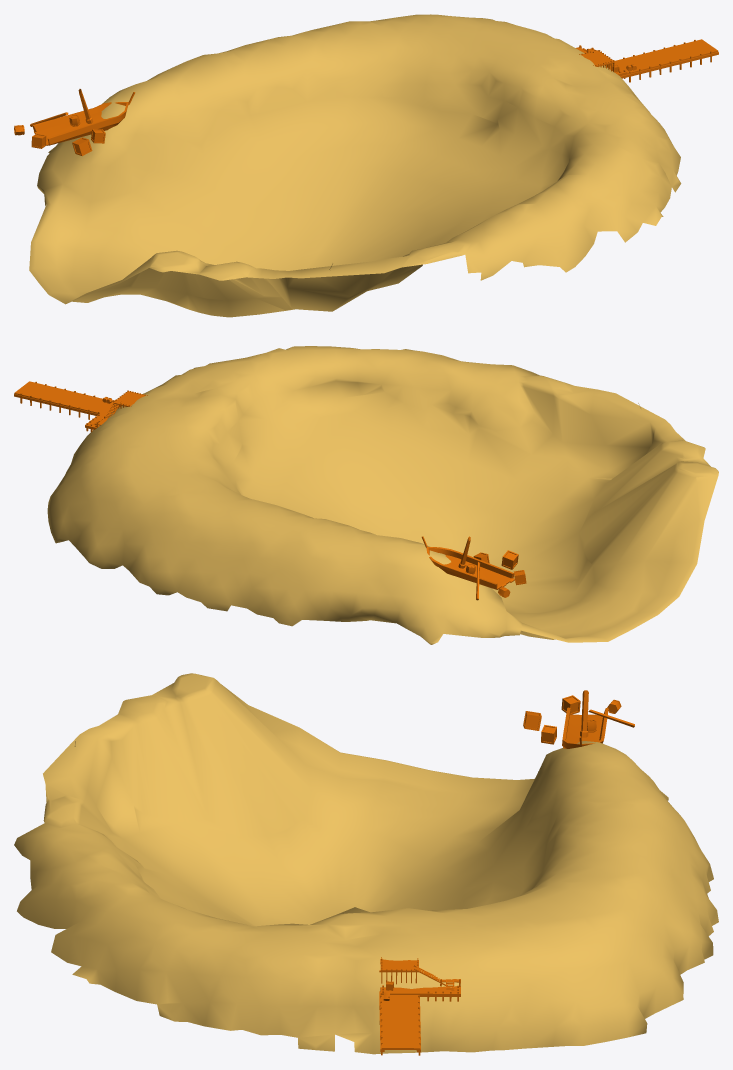
Rendered from Iles_Early_1.fbx.
3 views of the same model, one above another, from view 1: azimuth 30°, elevation 25°; view 2: azimuth 150°, elevation 25°; view 3: azimuth 270°, elevation 25° (orthographic). The views are drawn at different scales.
Parts seen in each view (by area): view 1: Sphere, Cube.005, Cube.001; view 2: Sphere, Cube.005, Cube.001; view 3: Sphere, Cube.001, Cube.005.
Part boxes in pixels (x1,y1,x2,y2): Sphere: (29, 14, 681, 317); Cube.005: (14, 89, 135, 155); Cube.001: (576, 39, 718, 82); Sphere: (47, 346, 718, 644); Cube.005: (421, 536, 526, 600); Cube.001: (14, 381, 147, 432); Sphere: (14, 673, 718, 1054); Cube.001: (379, 957, 460, 1055); Cube.005: (523, 690, 634, 748).
Size of the model in its own units: 7144 by 1541 by 5496.
